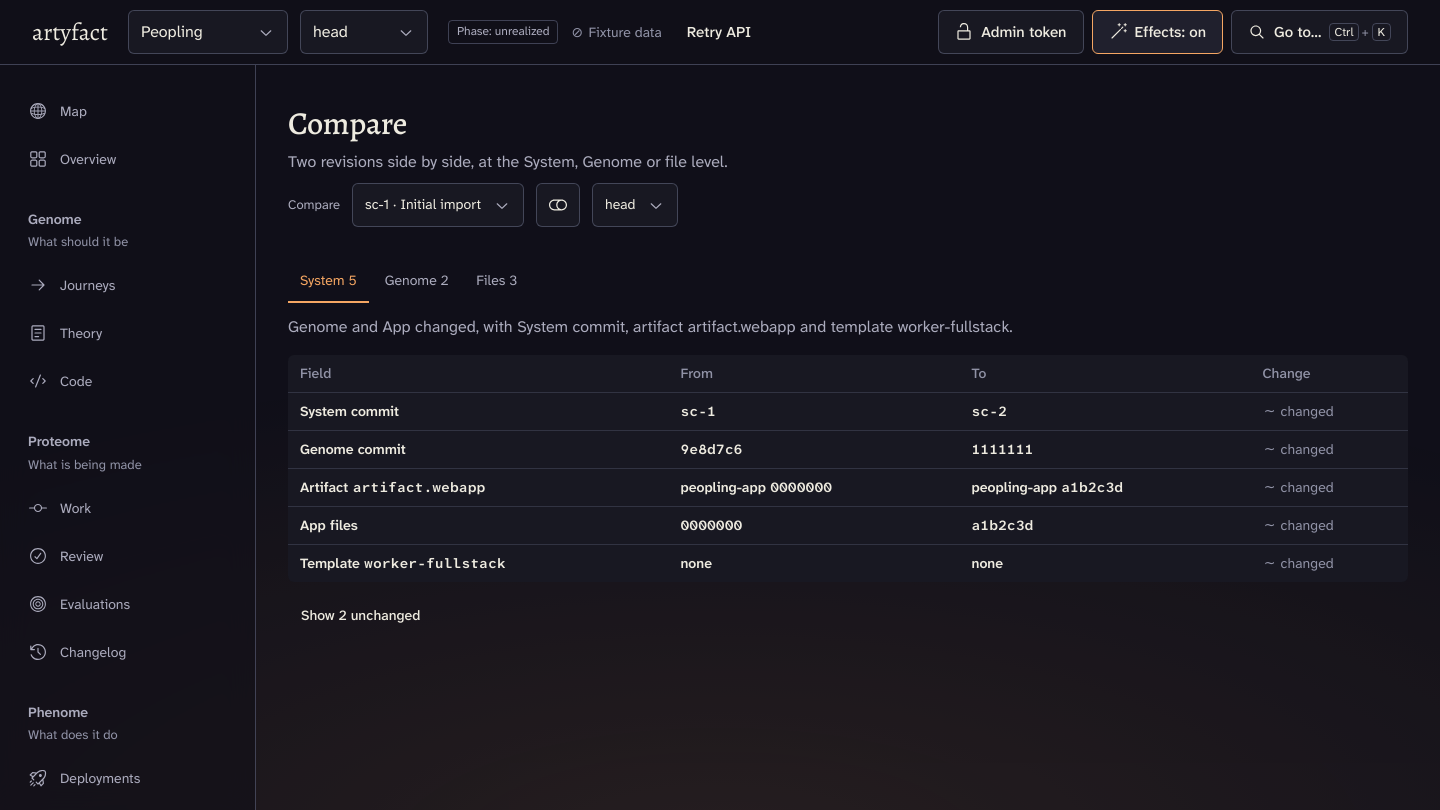
Test case: Compare › compares head with its parent by default and shows the System table with per-artifact commits
Expected: the dropdown named "From" shows "sc-1", [352,183,524,227]
Expected: the dropdown named "To" reads "head", [592,183,678,227]
What coordinates should you click on to do the following:
click the button "Show 2 unchanged"
I would click on:
 (361, 616)
Its box is [288,598,433,634].
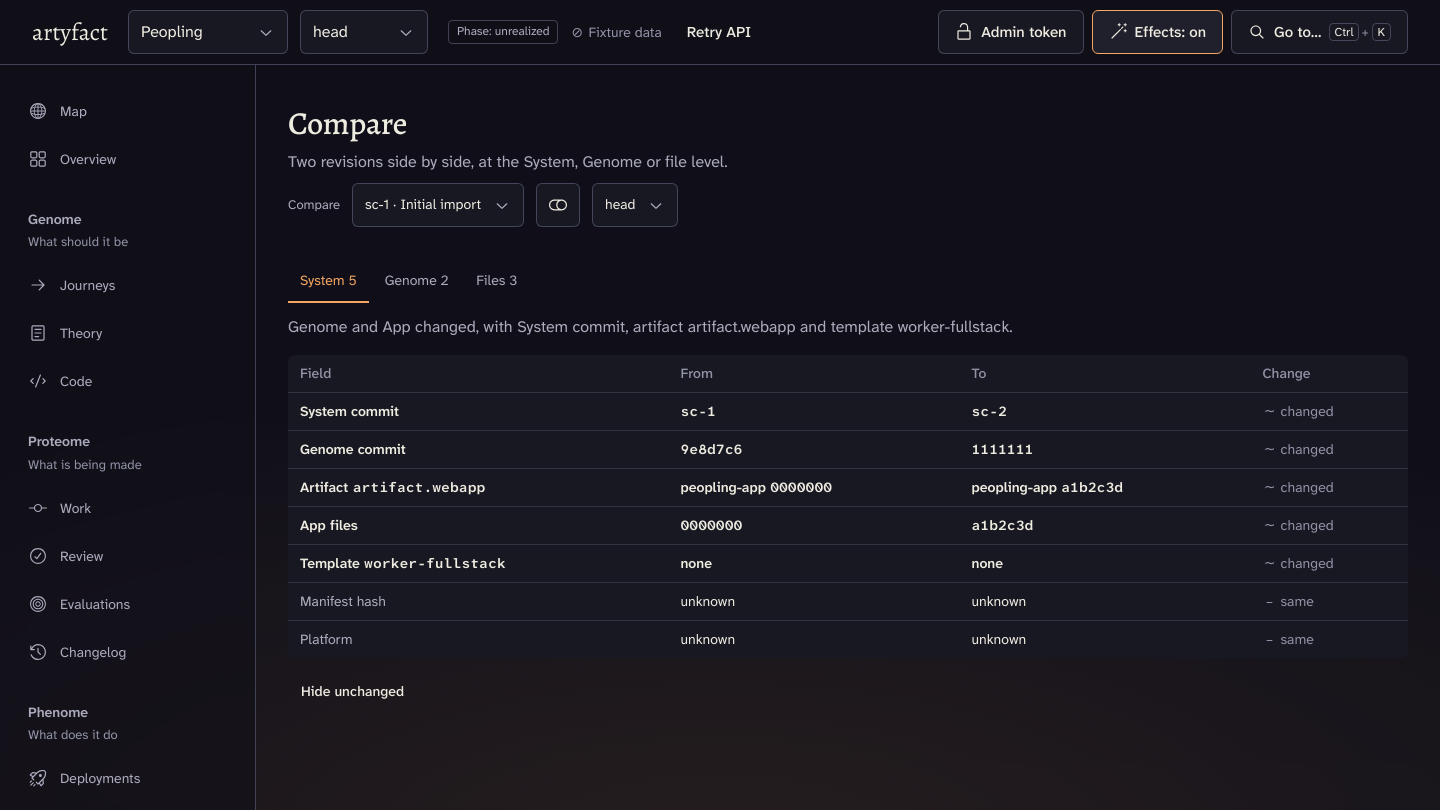
Expected: the row "Platform unknown unknown same" is shown, [288,620,1408,658]
